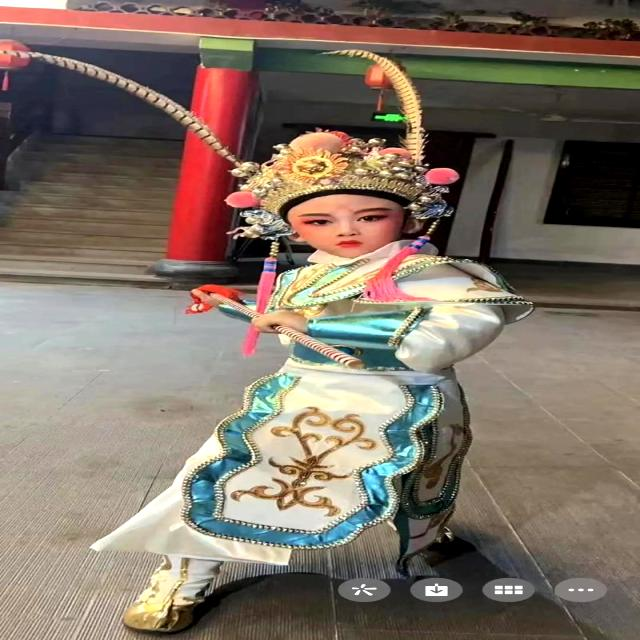Phasianus Colchicus: (304, 47, 432, 157)
Reeves-s Pheasant: (0, 48, 240, 158)
